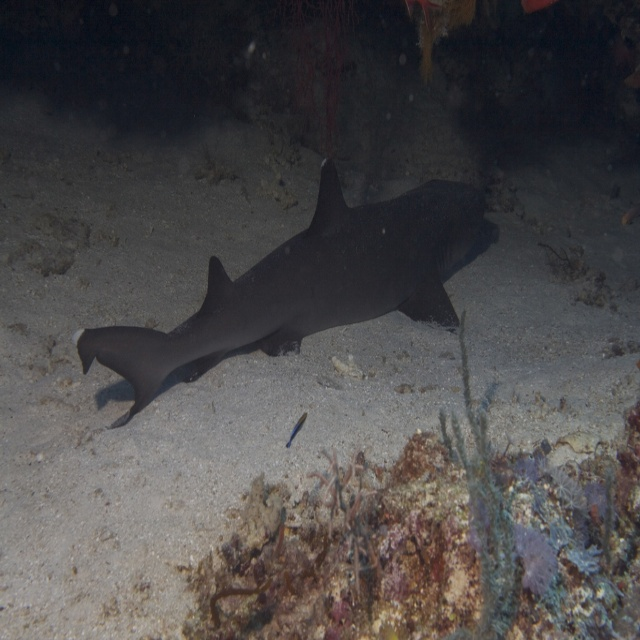Shark: (72, 159, 483, 429)
